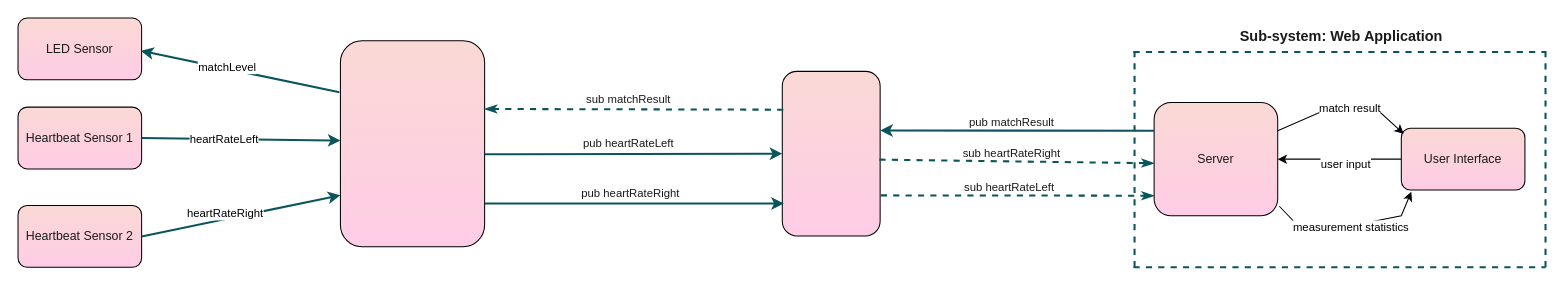
This 1566x287 diagram has some shape labels left out. Each missing label, with the box of its shape:
MQTT Broker: (781, 70, 880, 236)
WIO Terminal: (339, 40, 485, 247)
